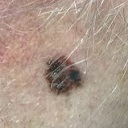Melanoma: (46, 57, 82, 94)
